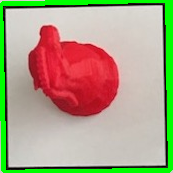Red Knight: (23, 21, 124, 123)
